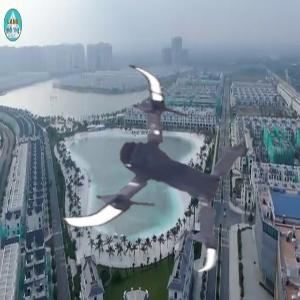drone: (54, 68, 253, 267)
